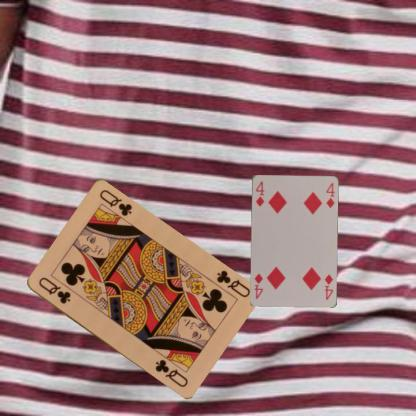4d: (253, 178, 265, 208), (322, 272, 334, 300)
Qc: (35, 274, 72, 306), (214, 268, 251, 300)
